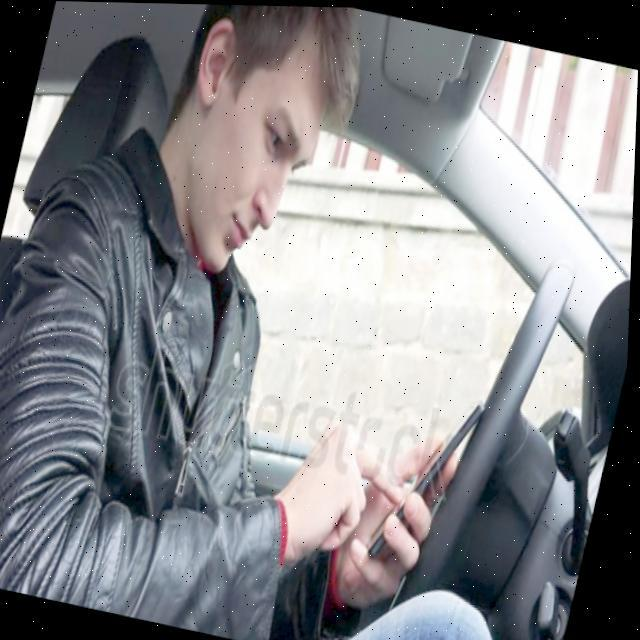PhoneCall: (362, 378, 489, 578)
